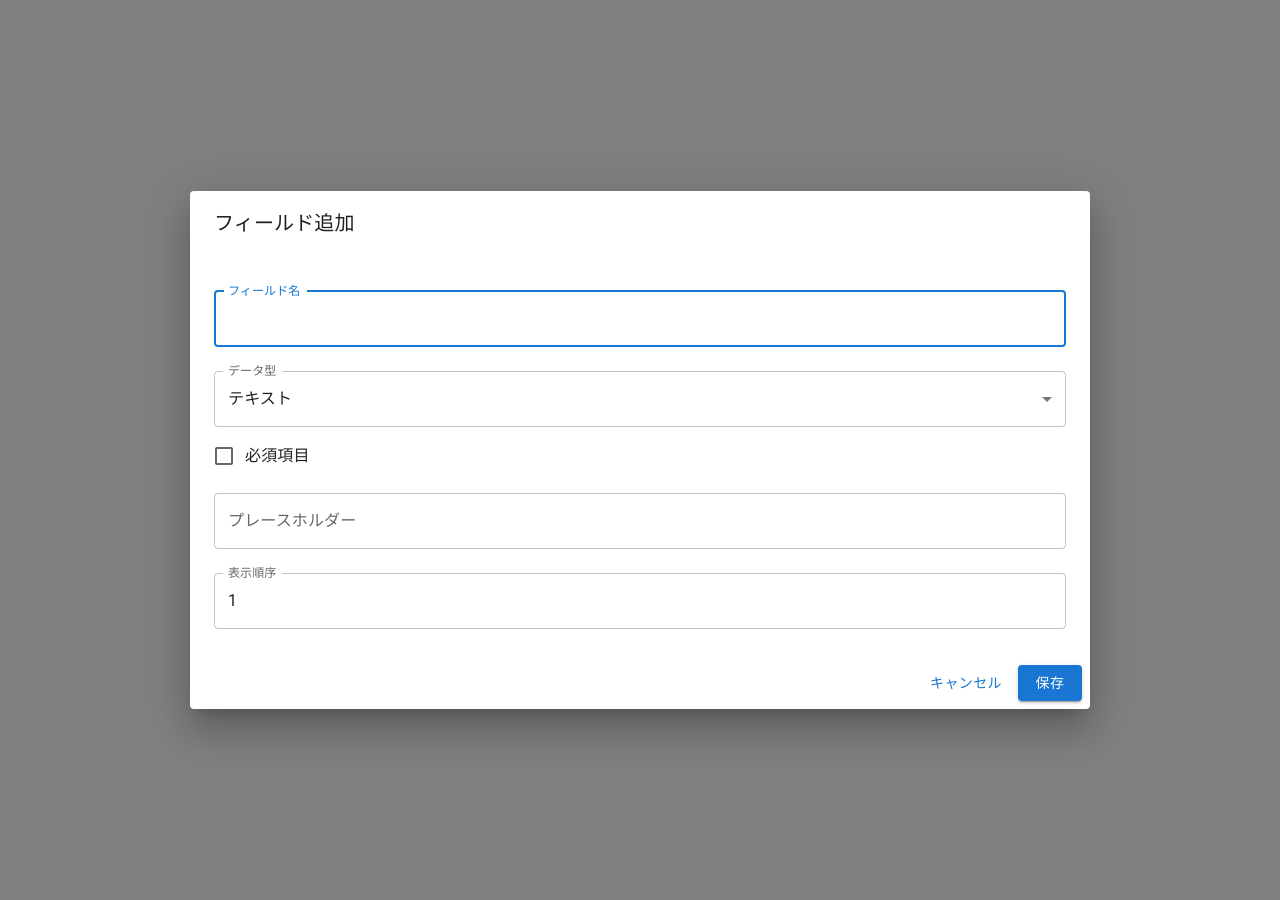
Test: FieldForm › should show options field for CHECKBOX dataType
The width and height of the screenshot is (1280, 900).
// データ型をCHECKBOXに変更
Click the dropdown: (260, 399) [228,389,292,408]
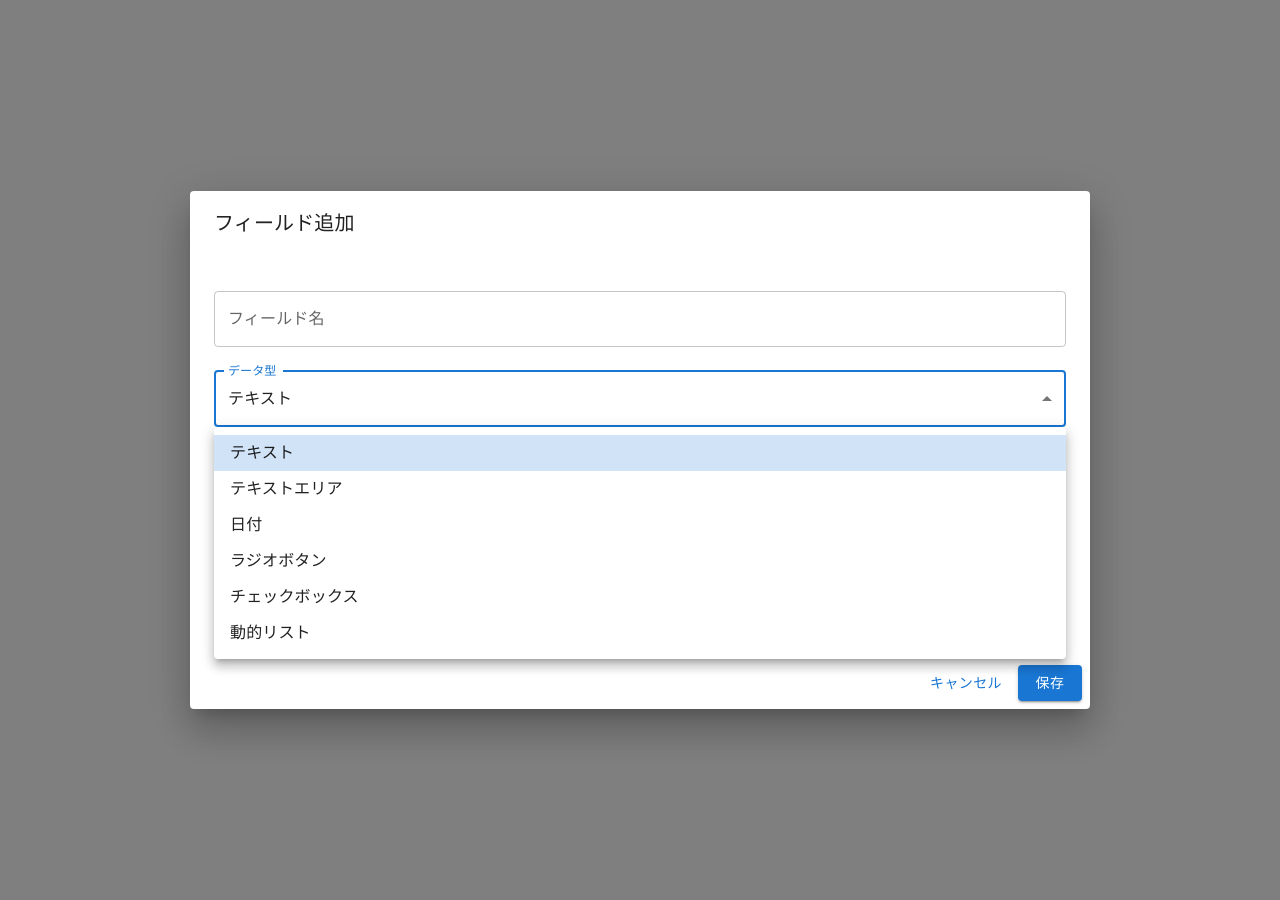
Click the option "チェックボックス": (294, 596) [230,587,359,606]
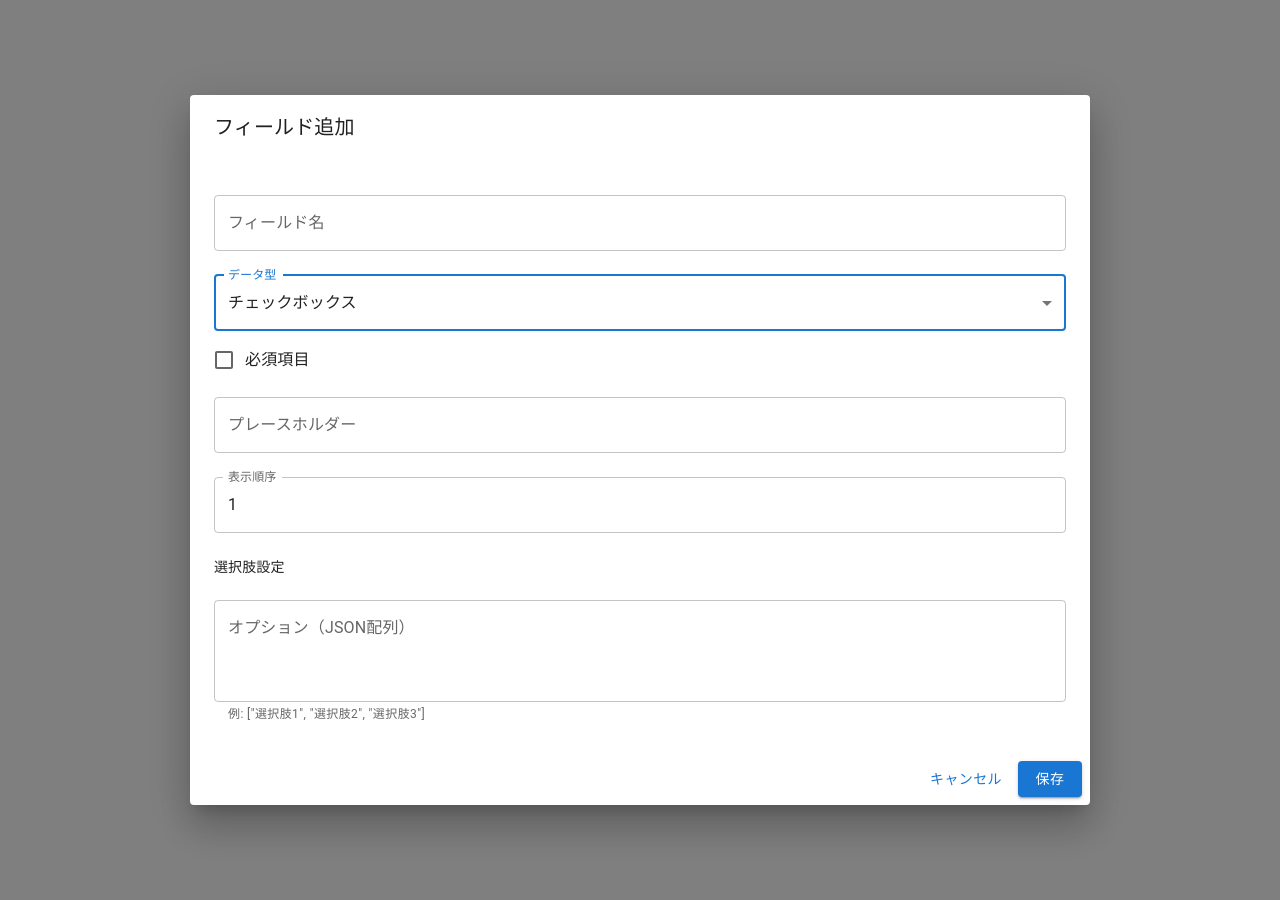
Result: the text box labelled "オプション（JSON配列）" is shown at [228,616,1052,685]
